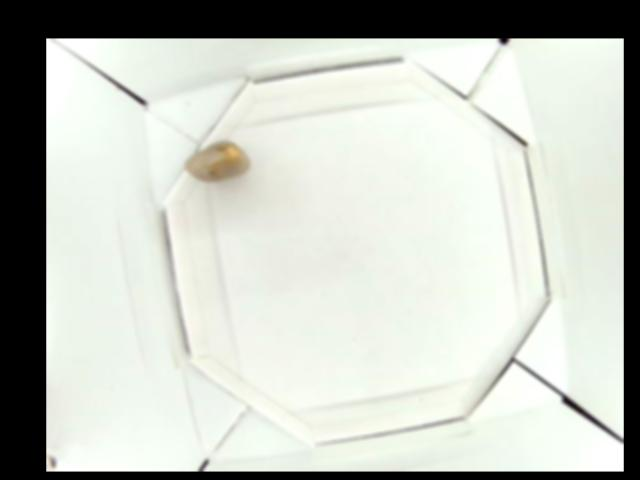Pebble: (182, 139, 252, 182)
